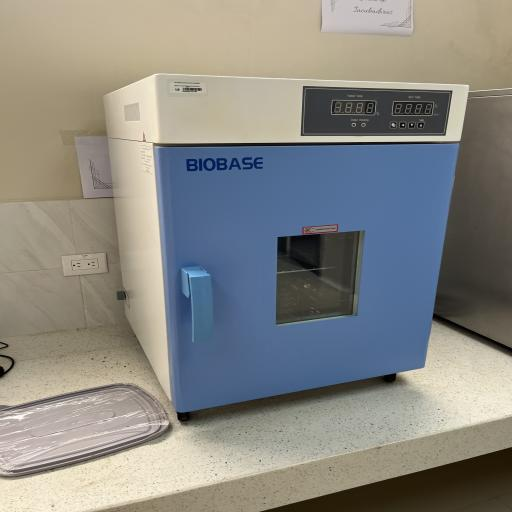Horno_Secado_Biobase: (92, 65, 472, 433)
